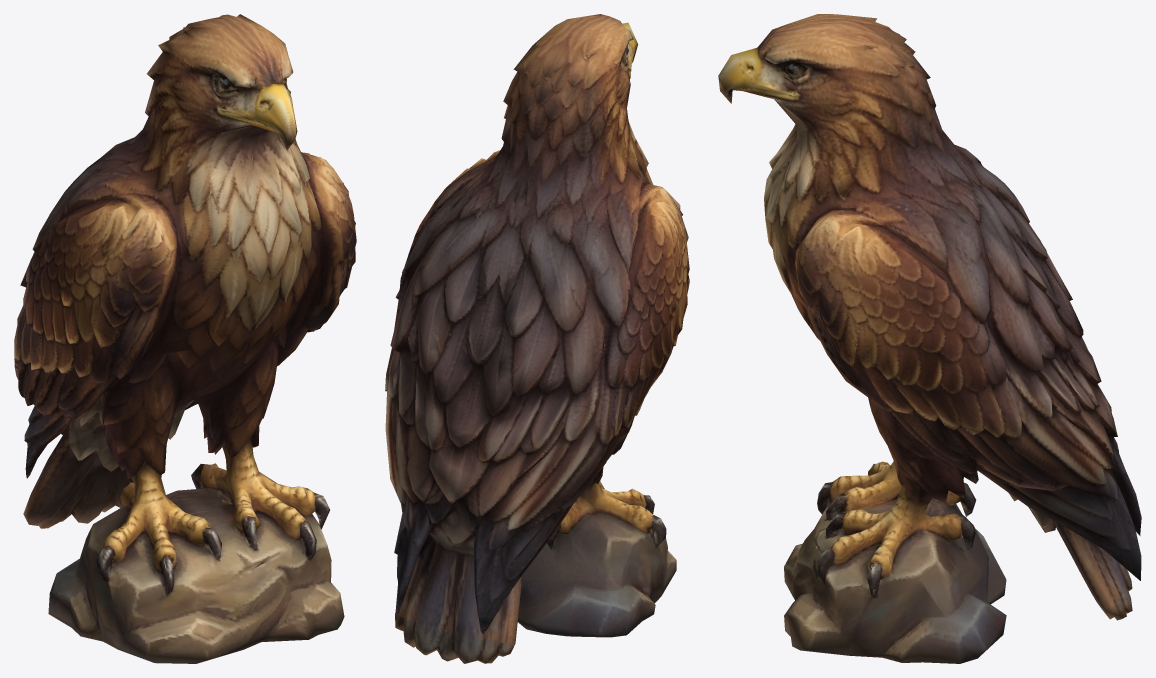
The model's file is EaglePerch_clean.glb.
3 views of the same model, side by side, from view 1: azimuth 30°, elevation 25°; view 2: azimuth 150°, elevation 25°; view 3: azimuth 270°, elevation 25° (orthographic). The views are drawn at different scales.
Visible parts, largest first — view 1: EaglePerch; view 2: EaglePerch; view 3: EaglePerch.
Boxes of the visible parts, x1,y1,x2,y2 form: EaglePerch: (14, 14, 356, 663); EaglePerch: (385, 14, 689, 663); EaglePerch: (718, 14, 1141, 663).
Bounding box in the file's own units: 0.9014 × 1.9 × 1.24.
Materials: 1 (1 with a texture image).
